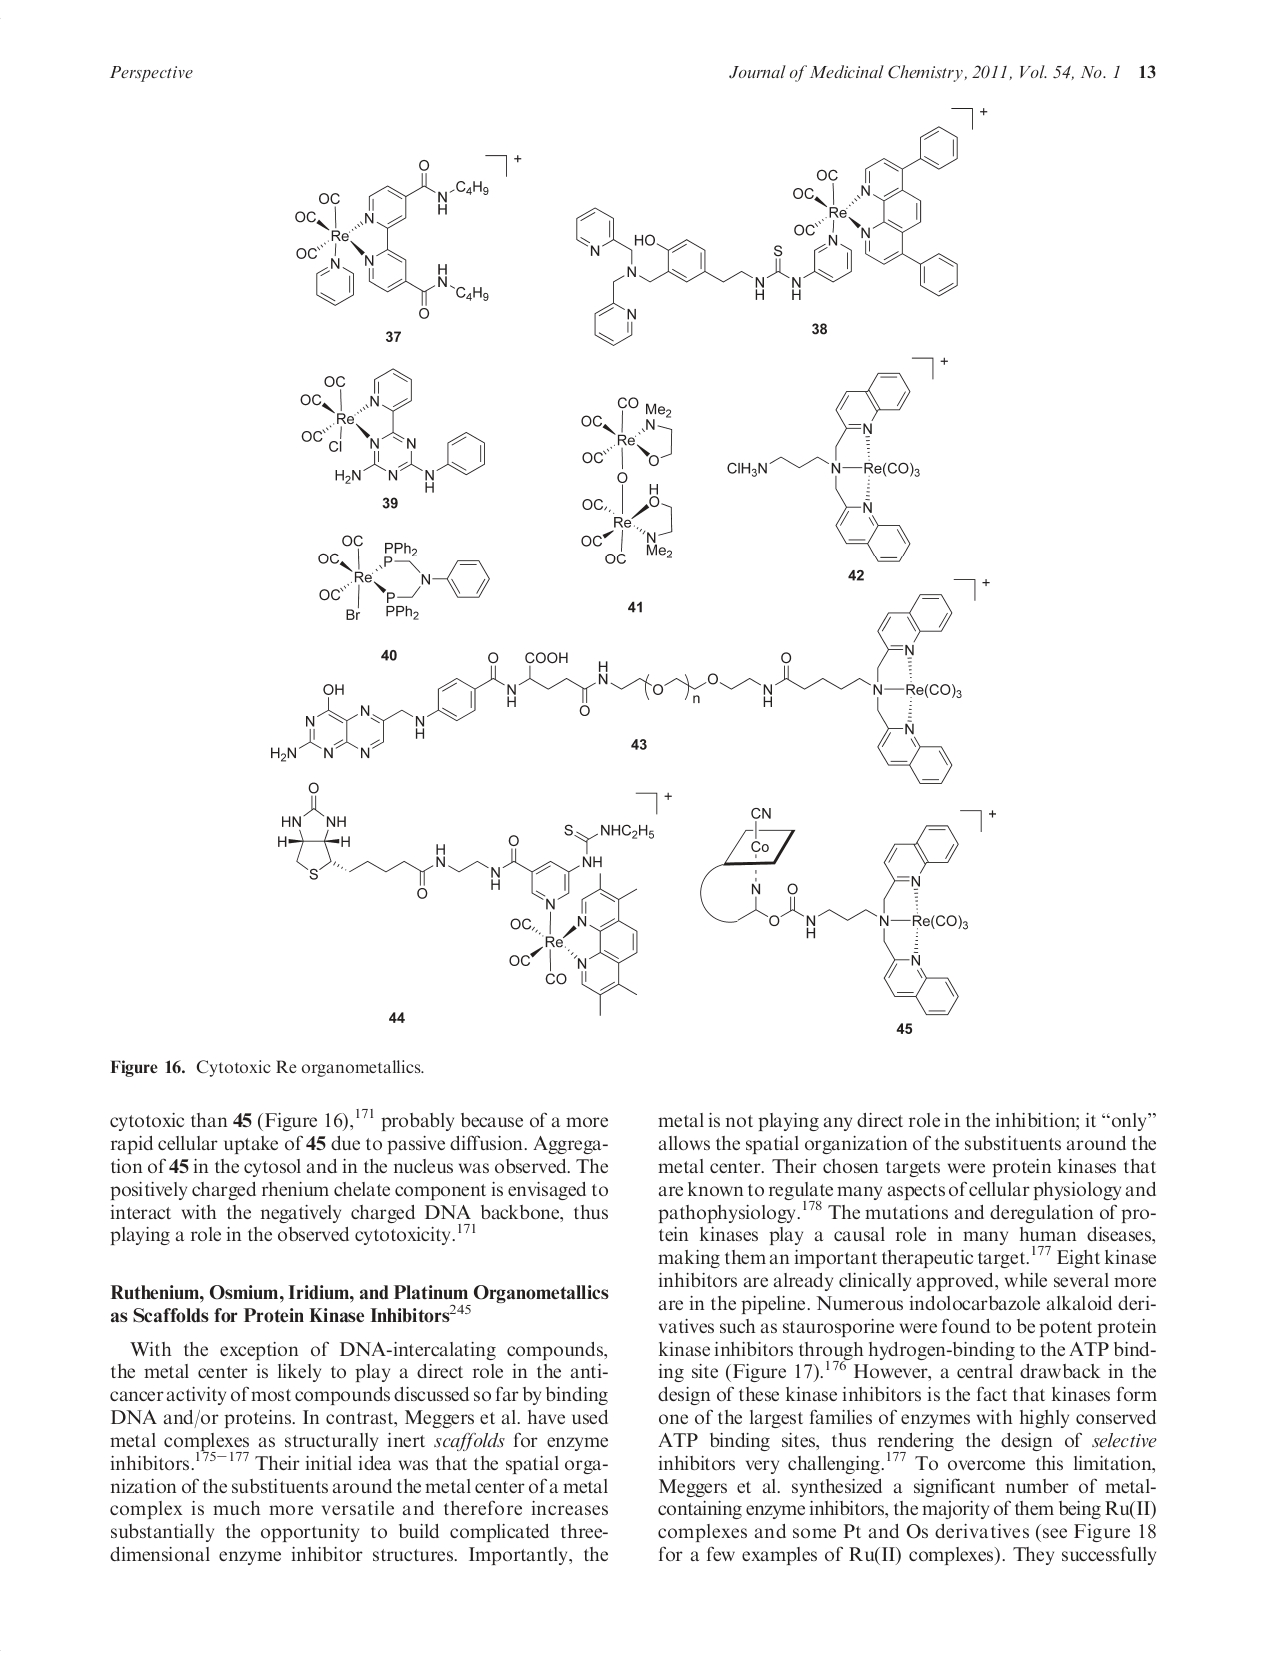exist_molecular: (267, 590, 961, 789), (277, 781, 656, 1017), (572, 124, 969, 347), (696, 805, 971, 1019), (723, 370, 923, 565), (291, 157, 493, 323), (297, 364, 492, 497), (576, 392, 684, 568), (314, 531, 493, 622)
